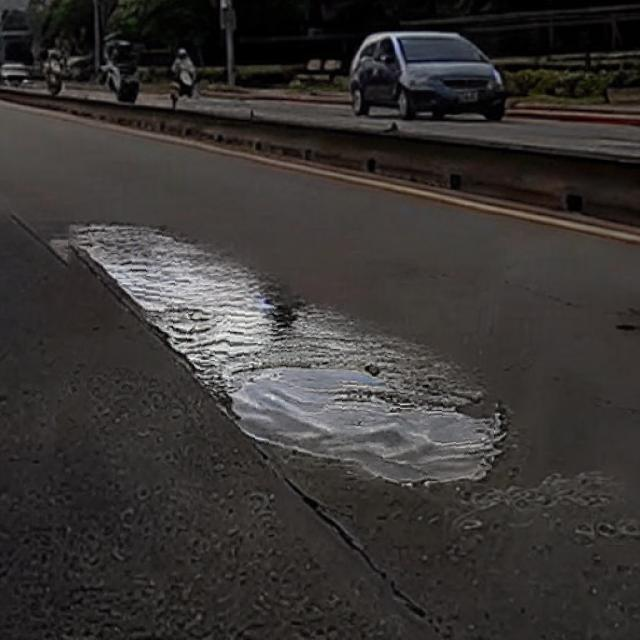puddle: (58, 227, 504, 486)
